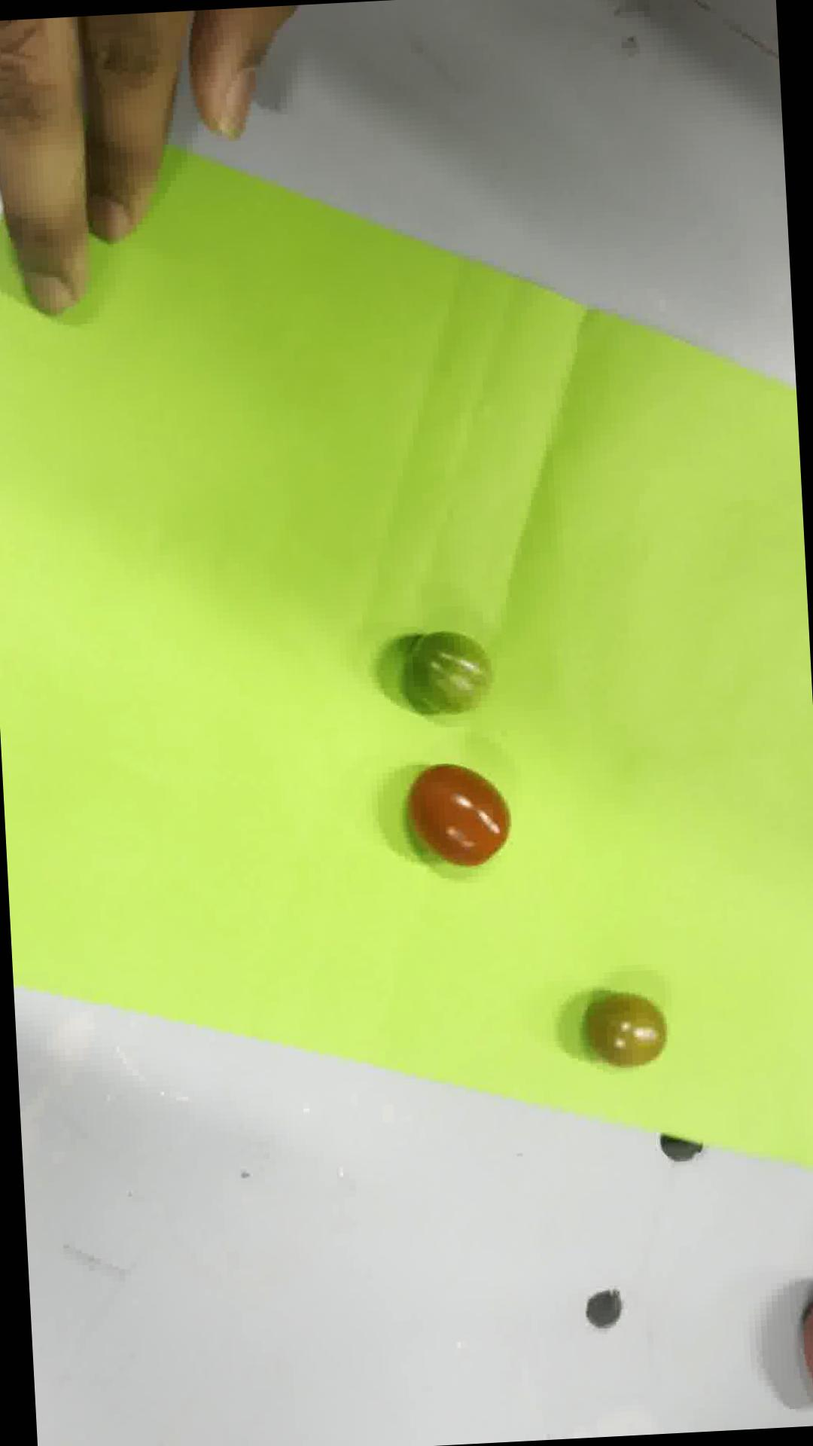green_cherry_tomato: (404, 631, 492, 713)
red_cherry_tomato: (408, 765, 509, 864)
yellow_cherry_tomato: (585, 993, 666, 1066)
